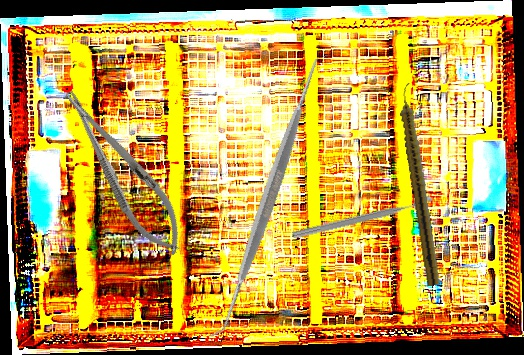Fixation Ring: (290, 192, 437, 252)
Handpiece: (395, 82, 445, 287)
Needle Holder: (50, 79, 197, 265)
Spatula Surgical: (131, 54, 407, 338)
